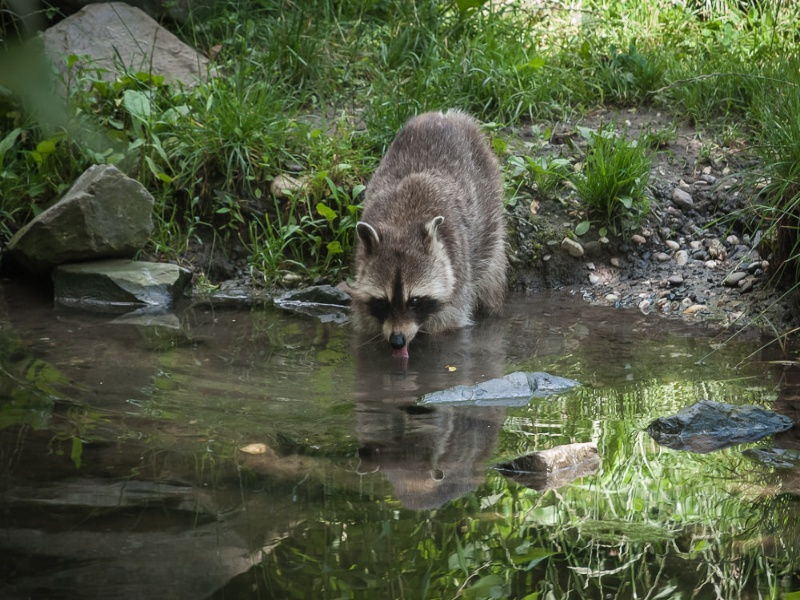raccoon: (344, 106, 512, 368)
